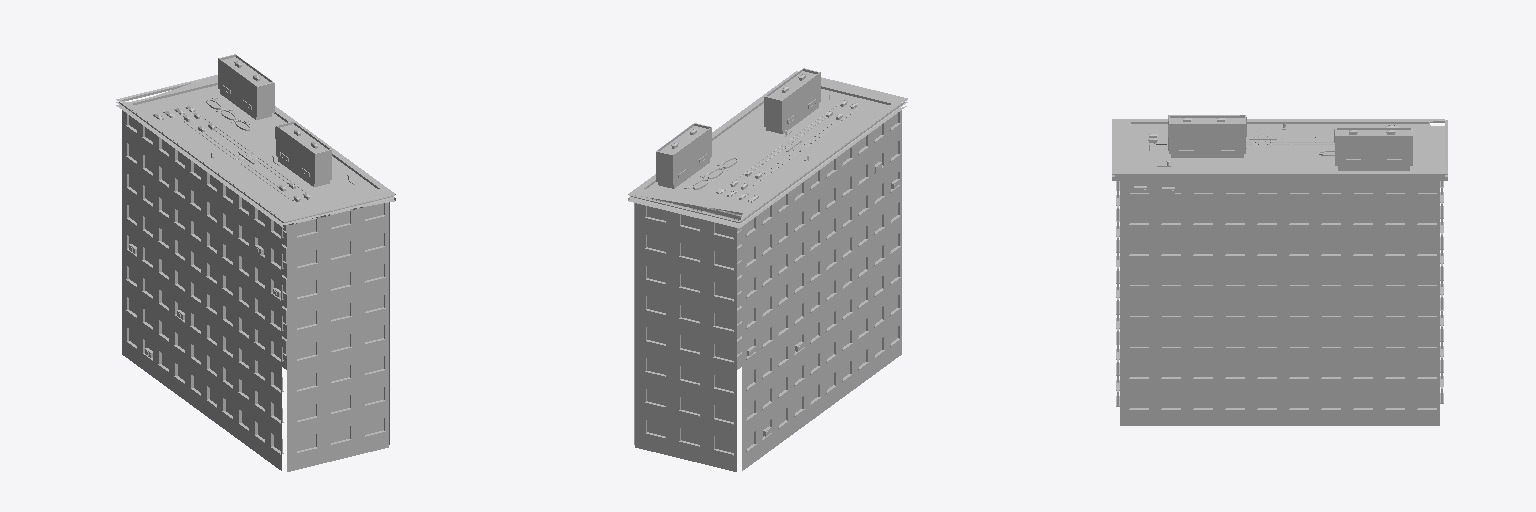
The model's file is u2NWBuild9.obj.
The picture shows the model from 3 angles: view 1: azimuth 30°, elevation 25°; view 2: azimuth 150°, elevation 25°; view 3: azimuth 270°, elevation 25°; orthographic projection.
Visible parts, largest first — view 1: mass roof __Comp1__5, mass sides floors window __Comp1__3 __Repeat1__2 regulaWindow __, mass sides floors window __Comp1__3 __Repeat1__0 regulaWindow __, mass sides floors window __Comp1__3 __Repeat1__3 regulaWindow __, mass sides floors window __Comp1__3 __Repeat1__5 regulaWindow __, mass sides floors window __Comp1__3 __Repeat1__6 regulaWindow __, mass sides __Repeat1__7 floors window __Comp1__3 regulaWindow __, mass sides floors window __Comp1__3 regulaWindow __Repeat1__4 __, mass sides floors window __Comp1__3 regulaWindow __Repeat1__1 __, mass sides __Repeat1__7 floors window regulaWindow __Repeat2__2 , mass sides __Repeat1__7 floors window __Repeat2__1 regulaWindow , mass sides floors window __Repeat1__0 __Repeat2__0 regulaWindow  (+27 smaller); view 2: mass roof __Comp1__5, mass sides floors window __Comp1__3 __Repeat1__0 regulaWindow __, mass sides floors window __Comp1__3 __Repeat1__2 regulaWindow __, mass sides floors window __Comp1__3 __Repeat1__6 regulaWindow __, mass sides floors window __Comp1__3 __Repeat1__3 regulaWindow __, mass sides floors window __Comp1__3 __Repeat1__5 regulaWindow __, mass sides __Repeat1__7 floors window __Comp1__3 regulaWindow __, mass sides floors window __Repeat2__1 __Comp1__0 regulaWindow __, mass sides floors window __Comp1__0 regulaWindow __Repeat2__2 __, mass sides floors window __Repeat2__0 __Comp1__0 regulaWindow __, mass sides floors window __Comp1__3 regulaWindow __Repeat1__1 __, mass sides floors window __Comp1__3 regulaWindow __Repeat1__4 __ (+24 smaller); view 3: mass roof __Comp1__5, mass sides __Comp1__1 floors window __Repeat1__2 regulaWindow __, mass sides __Comp1__1 floors window __Repeat1__3 regulaWindow __, mass sides __Comp1__1 floors window __Repeat1__6 regulaWindow __, mass sides __Comp1__1 floors window __Repeat1__0 regulaWindow __, mass sides __Comp1__1 floors window __Repeat1__5 regulaWindow __, mass sides __Comp1__1 __Repeat1__7 floors window regulaWindow __, mass sides __Comp1__1 floors window regulaWindow __Repeat1__1 __, mass sides __Comp1__1 floors window regulaWindow __Repeat1__4 __, mass sides __Comp1__1 floors window __Repeat2__0 regulaWindow __, mass sides __Comp1__1 floors window __Repeat2__1 regulaWindow __, mass sides __Comp1__1 floors window regulaWindow __Repeat2__2 __ (+28 smaller).
Boxes of the visible parts, <box> form: mass roof __Comp1__5: <box>116,54,395,227</box>; mass sides floors window __Comp1__3 __Repeat1__2 regulaWindow __: <box>154,286,249,385</box>; mass sides floors window __Comp1__3 __Repeat1__0 regulaWindow __: <box>154,347,249,447</box>; mass sides floors window __Comp1__3 __Repeat1__3 regulaWindow __: <box>154,255,249,354</box>; mass sides floors window __Comp1__3 __Repeat1__5 regulaWindow __: <box>154,193,249,293</box>; mass sides floors window __Comp1__3 __Repeat1__6 regulaWindow __: <box>154,163,249,262</box>; mass sides __Repeat1__7 floors window __Comp1__3 regulaWindow __: <box>154,134,249,231</box>; mass sides floors window __Comp1__3 regulaWindow __Repeat1__4 __: <box>154,224,233,312</box>; mass sides floors window __Comp1__3 regulaWindow __Repeat1__1 __: <box>154,317,233,404</box>; mass sides __Repeat1__7 floors window regulaWindow __Repeat2__2 : <box>287,218,320,256</box>; mass sides __Repeat1__7 floors window __Repeat2__1 regulaWindow : <box>321,209,354,247</box>; mass sides floors window __Repeat1__0 __Repeat2__0 regulaWindow : <box>355,417,388,455</box>; mass roof __Comp1__5: <box>628,68,907,228</box>; mass sides floors window __Comp1__3 __Repeat1__0 regulaWindow __: <box>774,347,869,447</box>; mass sides floors window __Comp1__3 __Repeat1__2 regulaWindow __: <box>774,286,869,385</box>; mass sides floors window __Comp1__3 __Repeat1__6 regulaWindow __: <box>774,163,869,262</box>; mass sides floors window __Comp1__3 __Repeat1__3 regulaWindow __: <box>774,255,869,354</box>; mass sides floors window __Comp1__3 __Repeat1__5 regulaWindow __: <box>774,193,869,293</box>; mass sides __Repeat1__7 floors window __Comp1__3 regulaWindow __: <box>774,134,869,231</box>; mass sides floors window __Repeat2__1 __Comp1__0 regulaWindow __: <box>669,302,702,432</box>; mass sides floors window __Comp1__0 regulaWindow __Repeat2__2 __: <box>635,294,668,424</box>; mass sides floors window __Repeat2__0 __Comp1__0 regulaWindow __: <box>703,310,736,440</box>; mass sides floors window __Comp1__3 regulaWindow __Repeat1__1 __: <box>774,328,853,416</box>; mass sides floors window __Comp1__3 regulaWindow __Repeat1__4 __: <box>774,236,853,324</box>; mass roof __Comp1__5: <box>1112,115,1447,180</box>; mass sides __Comp1__1 floors window __Repeat1__2 regulaWindow __: <box>1184,334,1375,364</box>; mass sides __Comp1__1 floors window __Repeat1__3 regulaWindow __: <box>1184,303,1375,333</box>; mass sides __Comp1__1 floors window __Repeat1__6 regulaWindow __: <box>1184,211,1375,241</box>; mass sides __Comp1__1 floors window __Repeat1__0 regulaWindow __: <box>1184,396,1375,425</box>; mass sides __Comp1__1 floors window __Repeat1__5 regulaWindow __: <box>1184,242,1375,271</box>; mass sides __Comp1__1 __Repeat1__7 floors window regulaWindow __: <box>1184,181,1375,210</box>; mass sides __Comp1__1 floors window regulaWindow __Repeat1__1 __: <box>1184,365,1343,395</box>; mass sides __Comp1__1 floors window regulaWindow __Repeat1__4 __: <box>1184,272,1343,302</box>; mass sides __Comp1__1 floors window __Repeat2__0 regulaWindow __: <box>1408,272,1439,395</box>; mass sides __Comp1__1 floors window __Repeat2__1 regulaWindow __: <box>1376,272,1407,395</box>; mass sides __Comp1__1 floors window regulaWindow __Repeat2__2 __: <box>1344,272,1375,395</box>.
Size of the model in its own units: 2826 by 6963 by 7363.